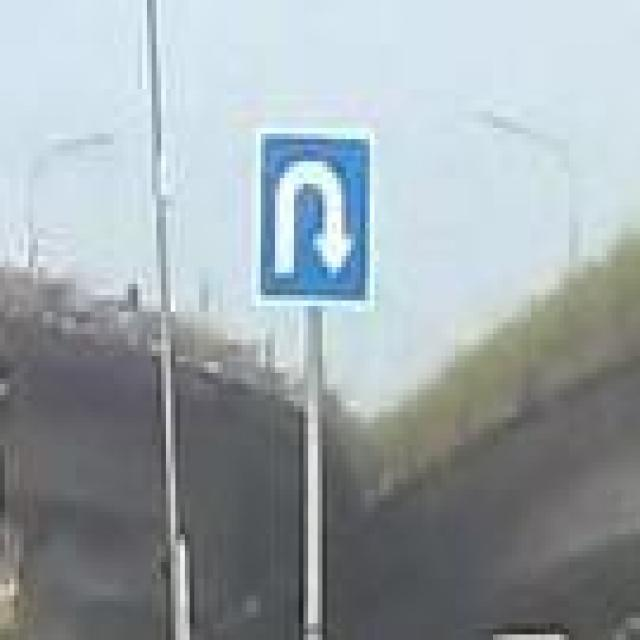traffic sign: (247, 123, 375, 312)
